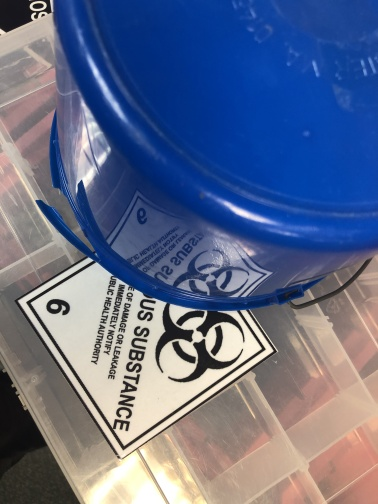InfectiousSubstance: (18, 252, 279, 459)
